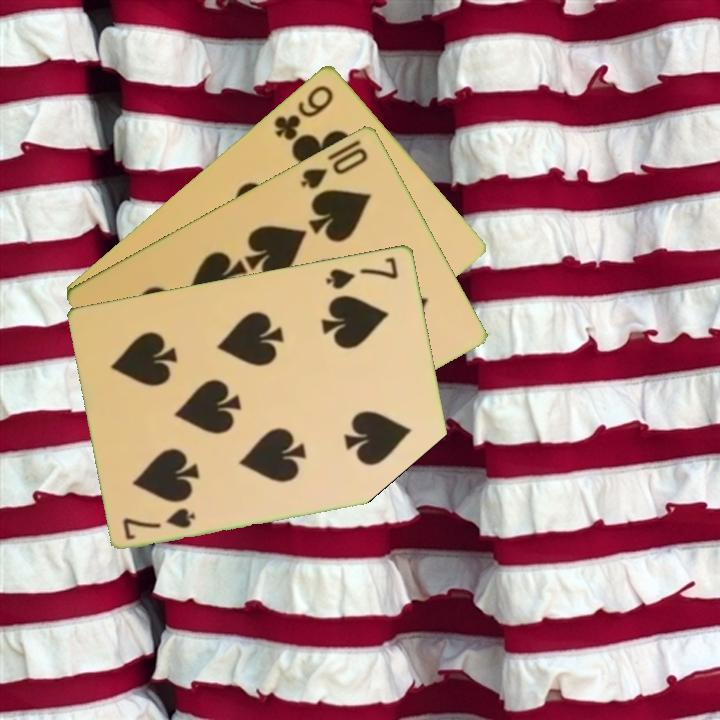10s: (296, 143, 371, 192)
7s: (322, 253, 402, 292), (119, 504, 199, 542)
9c: (270, 81, 337, 143)
